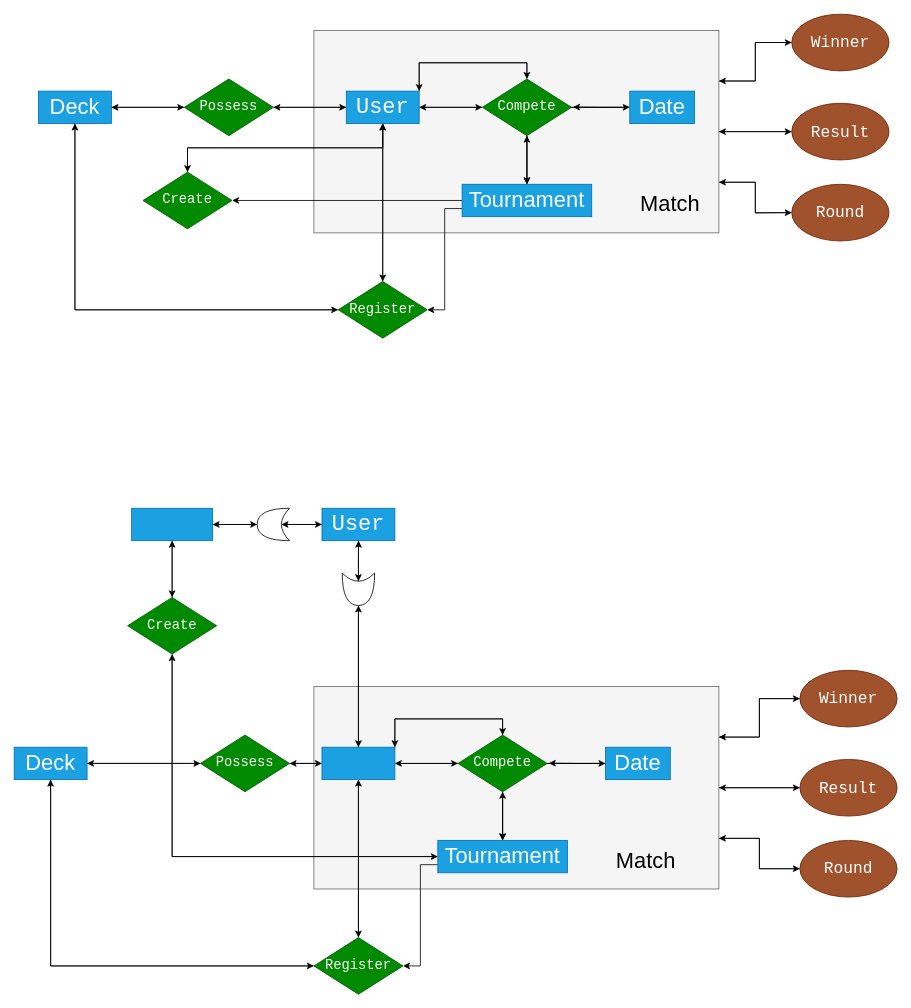
Image size: 911x1008. Some labels were removed from this diagram. The centre of each missing label's shape, as x and y in pixels:
Admin: the point at 172,524
Player: the point at 358,763
